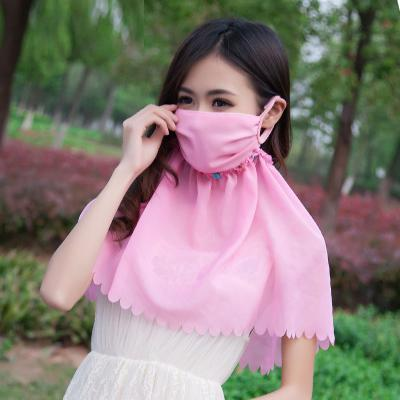OK: (171, 78, 262, 169)
